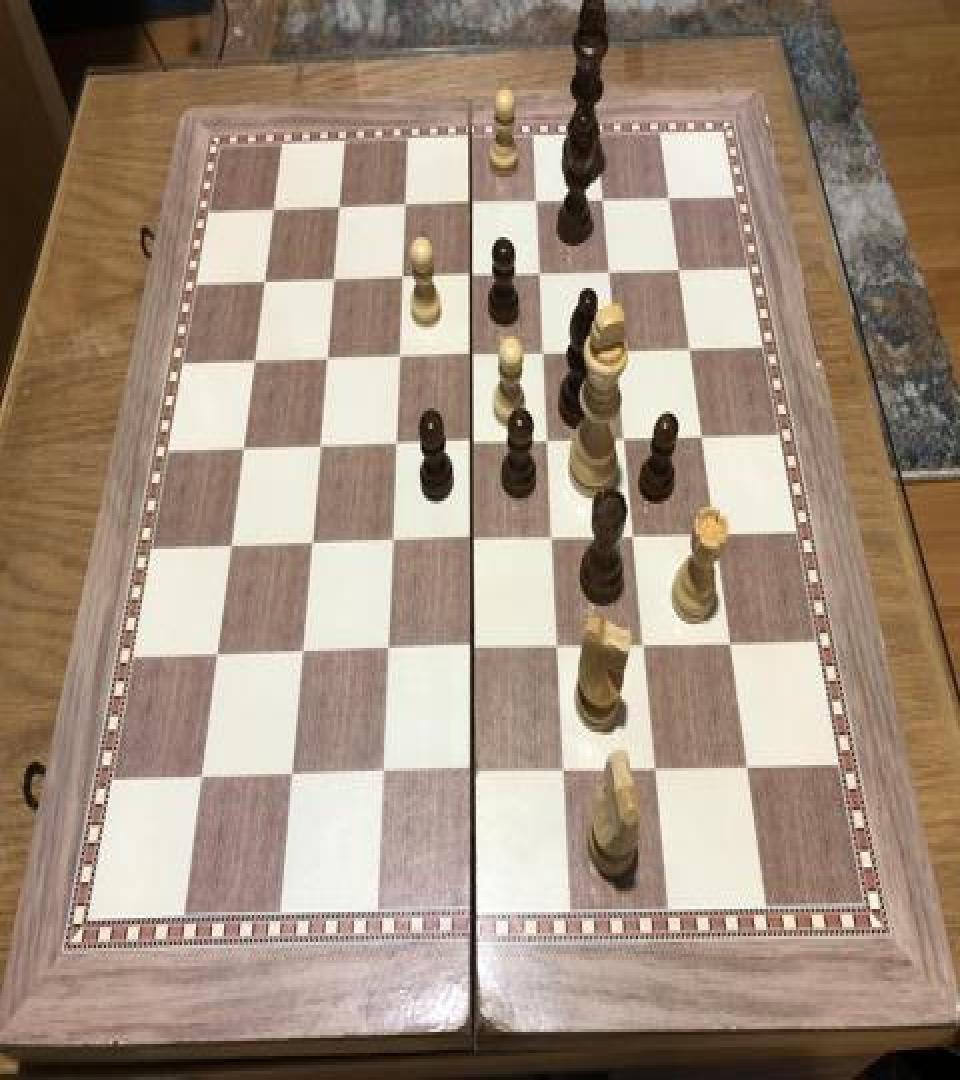xcorner: (703, 514, 727, 551), (460, 520, 484, 557), (632, 625, 656, 662), (205, 637, 229, 674), (735, 748, 759, 785), (460, 754, 484, 791), (657, 178, 681, 214), (591, 180, 615, 216), (525, 183, 549, 219), (460, 184, 484, 220), (329, 189, 353, 225), (264, 192, 288, 228), (667, 250, 691, 286), (598, 252, 622, 288), (529, 255, 553, 291), (460, 256, 484, 292), (323, 261, 347, 297), (255, 262, 279, 298), (605, 332, 629, 368), (532, 333, 556, 369), (460, 336, 484, 372), (388, 338, 412, 374), (316, 340, 340, 376), (244, 342, 268, 378), (690, 417, 714, 453), (613, 418, 637, 454), (536, 422, 560, 458), (460, 423, 484, 459), (384, 426, 408, 462), (308, 428, 332, 464), (622, 516, 646, 552), (541, 519, 565, 555), (380, 524, 404, 560), (299, 525, 323, 561), (219, 528, 243, 564), (718, 624, 742, 660), (546, 628, 570, 664), (460, 630, 484, 666), (375, 633, 399, 669), (290, 634, 314, 670), (643, 750, 667, 786), (552, 753, 576, 789), (369, 758, 393, 794), (279, 759, 303, 795), (188, 760, 212, 796), (394, 188, 418, 223), (391, 260, 415, 295), (677, 329, 701, 364), (232, 431, 256, 466)
